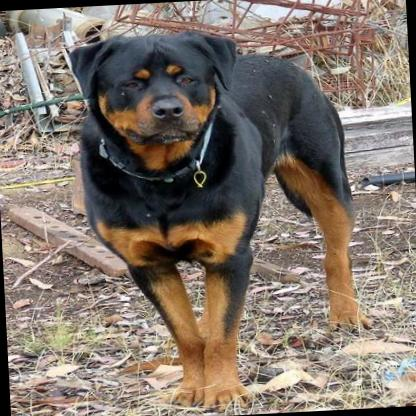Rottweiler: (61, 22, 372, 414)
